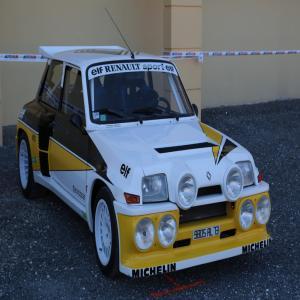Vehicle-registration-plate: (193, 226, 221, 241)
